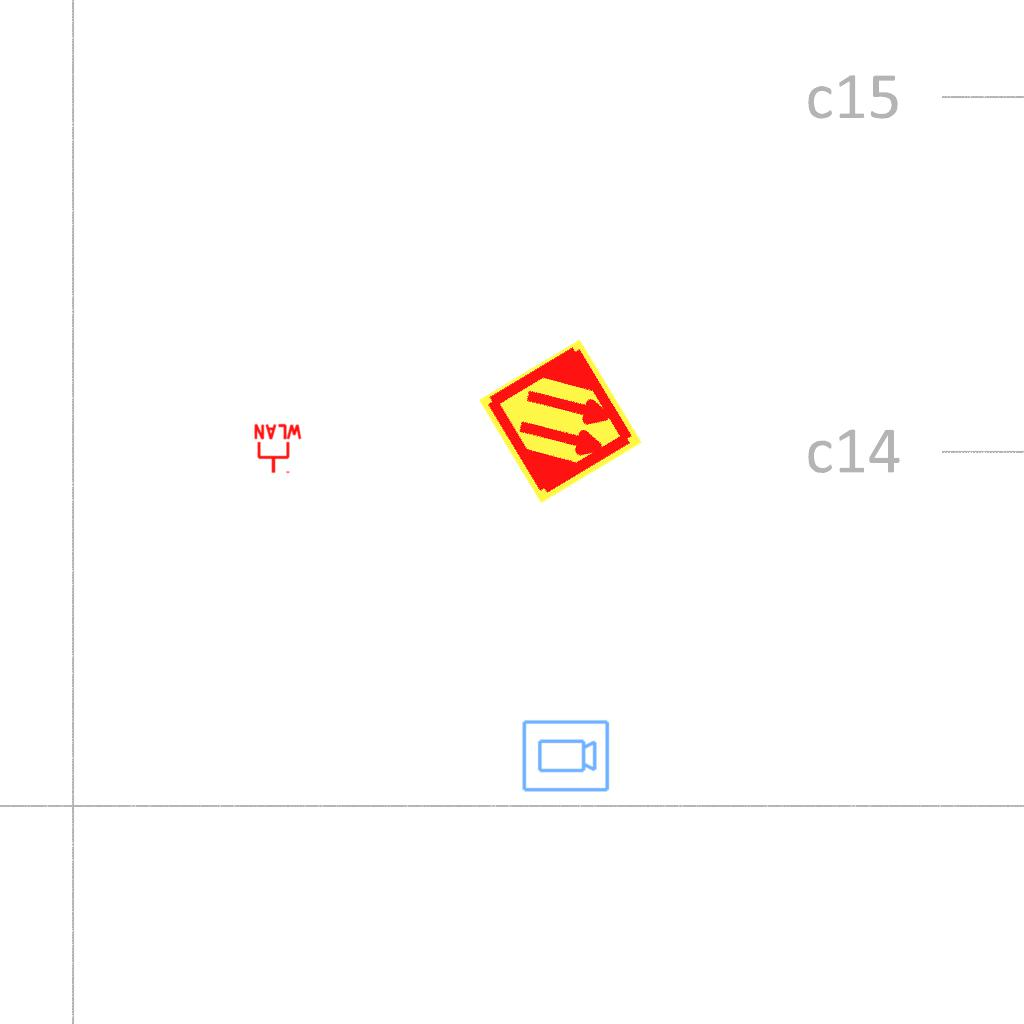ASR_Ansaugrauchmelder: (474, 335, 647, 508)
KFO_Kamera_mit_Festobjektiv: (520, 718, 611, 795)
WLAN: (252, 423, 304, 475)
